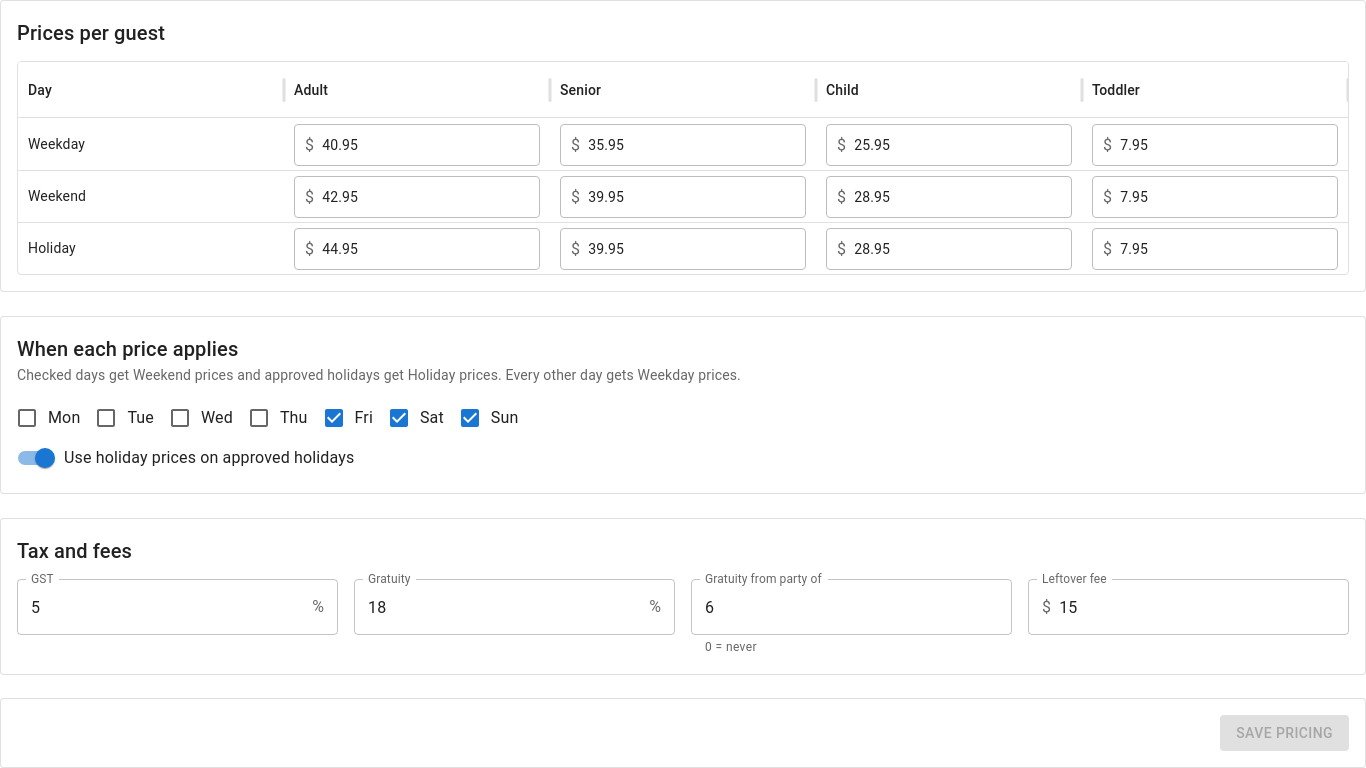
Test: PricingProfileForm › doesn't save a negative price
Replace the text in the number field named "Weekend Child price" with "-1" at (958, 196), box [854,186,1061,206]
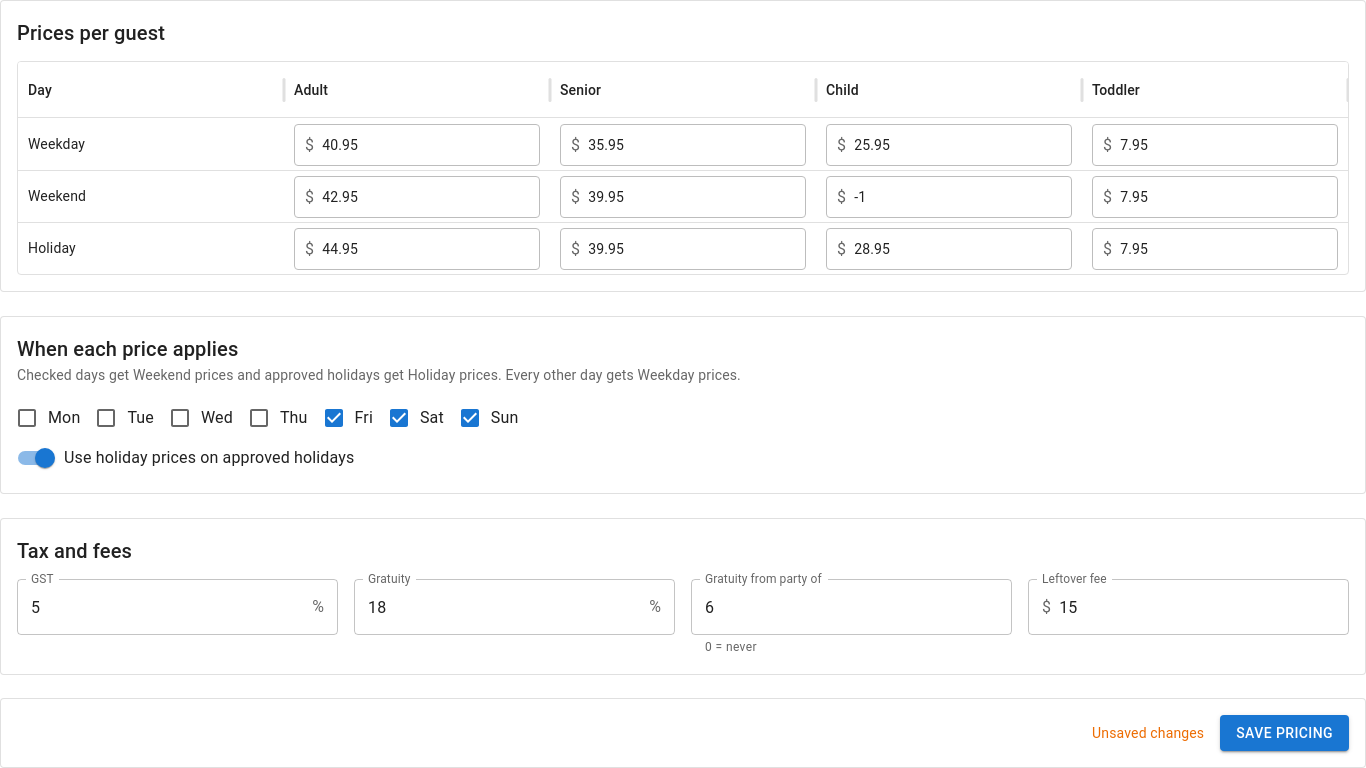
Click the button "Save pricing" at (1285, 733), box [1220,714,1349,751]
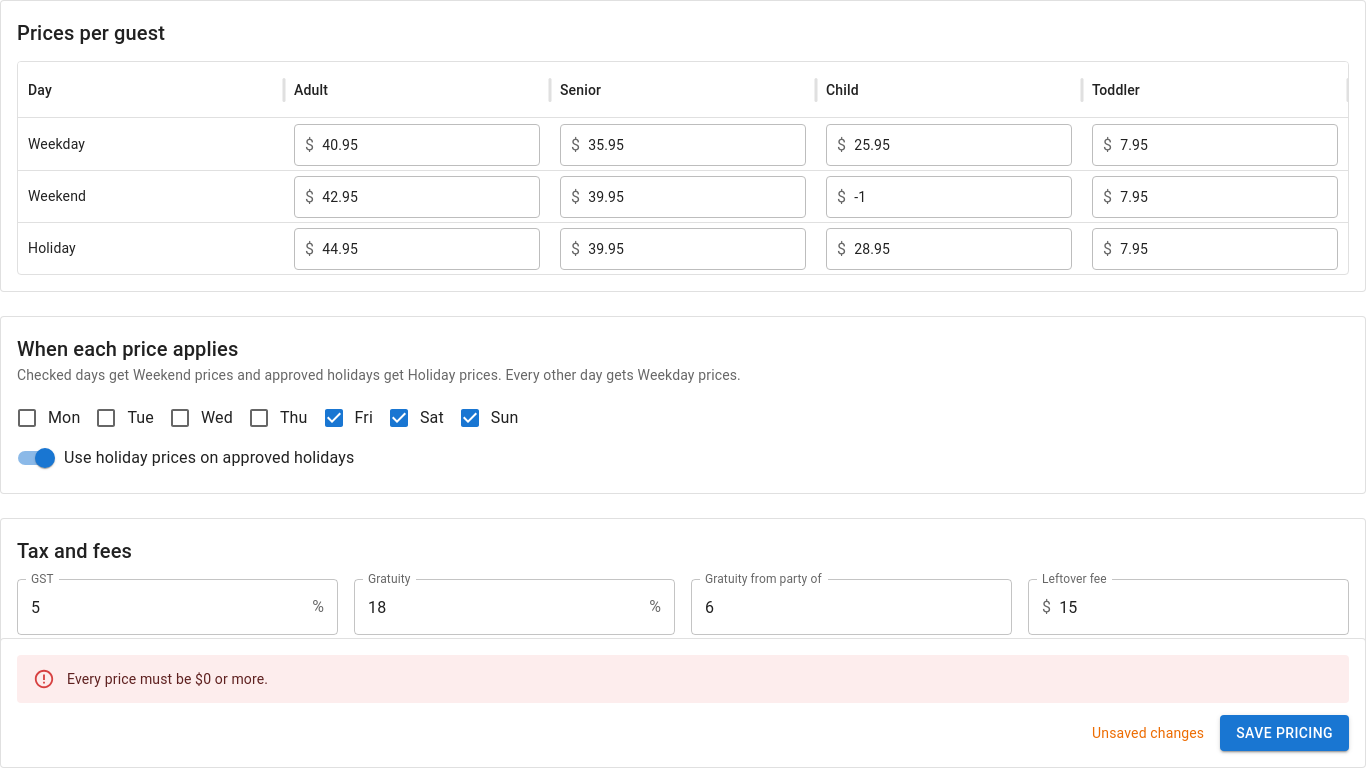
Now the text "Every price must be $0 or more." is shown, box [67,670,268,686]
